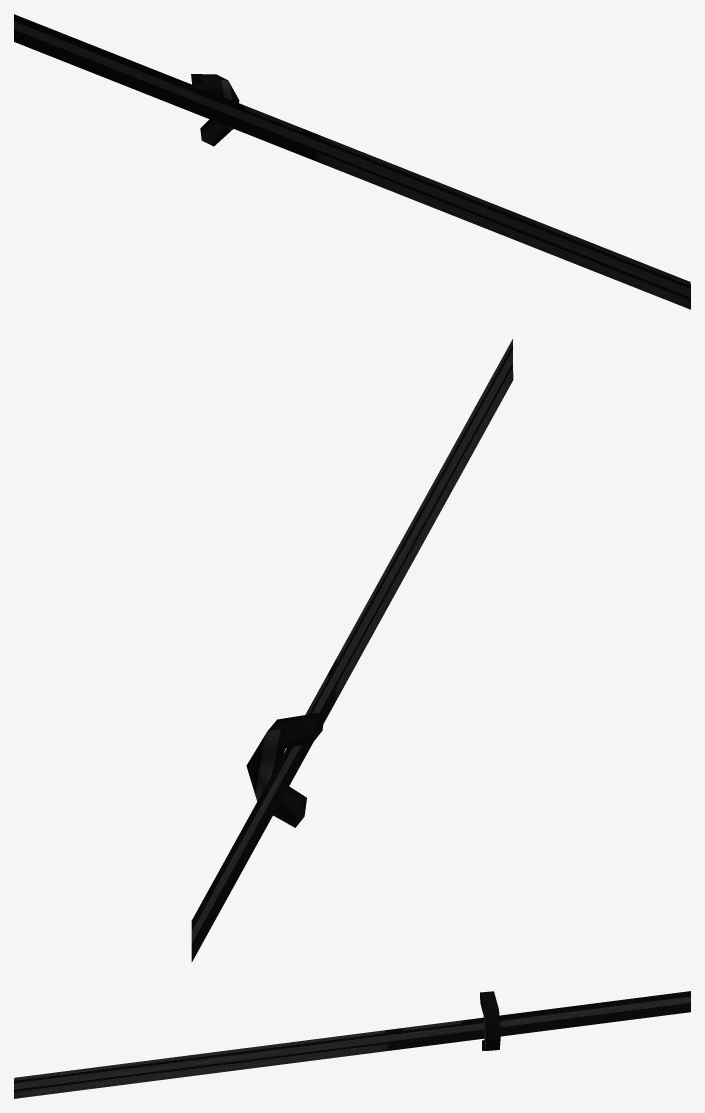
File: SM_SwitchWireConnector.FBX
3 views of the same model, one above another, from view 1: azimuth 30°, elevation 25°; view 2: azimuth 150°, elevation 25°; view 3: azimuth 270°, elevation 25° (orthographic). The views are drawn at different scales.
Parts seen in each view (by area): view 1: Object078; view 2: Object078; view 3: Object078.
Part boxes in pixels (box(x1,y1,x2,y2)): Object078: box(14, 14, 690, 309); Object078: box(191, 339, 513, 962); Object078: box(14, 991, 690, 1098).
Bounding box in the file's own units: 9.13 × 2.64 × 30.11.
